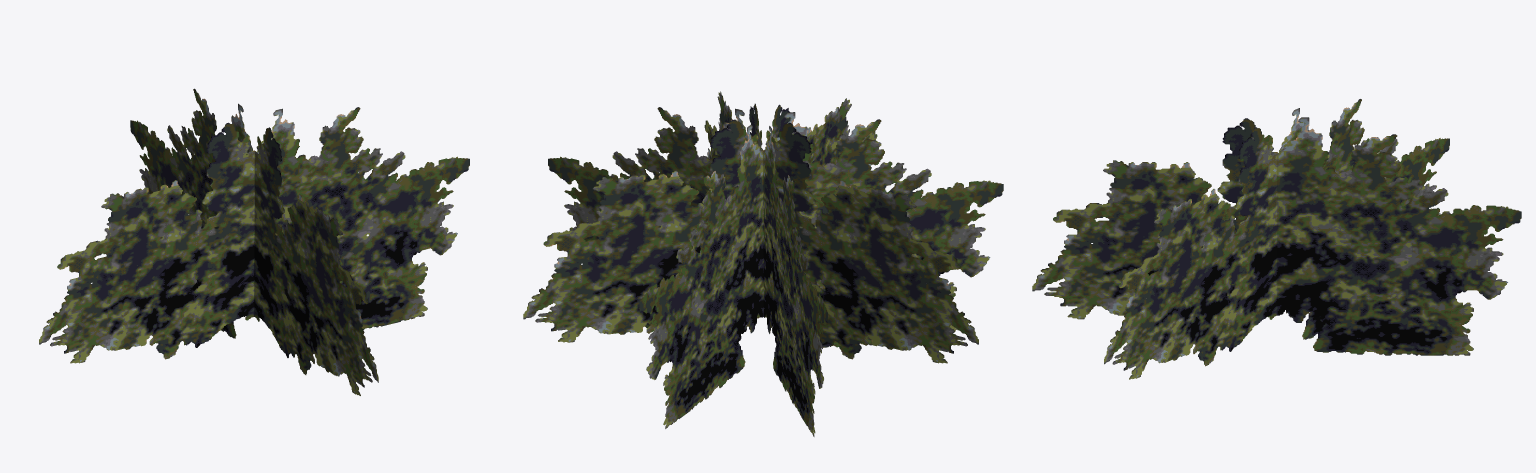
File: bush.fbx
3 renders of one model, left to right at view 1: azimuth 30°, elevation 25°; view 2: azimuth 150°, elevation 25°; view 3: azimuth 270°, elevation 25°, orthographic.
Visible parts, largest first — view 1: Plane; view 2: Plane; view 3: Plane.
Boxes of the visible parts, left/top/right/bottom form: Plane: left=39, top=88, right=469, bottom=395; Plane: left=523, top=91, right=1003, bottom=436; Plane: left=1032, top=99, right=1521, bottom=379.
Bounding box in the file's own units: 285 × 153 × 285.
1 material, 1 textured.
